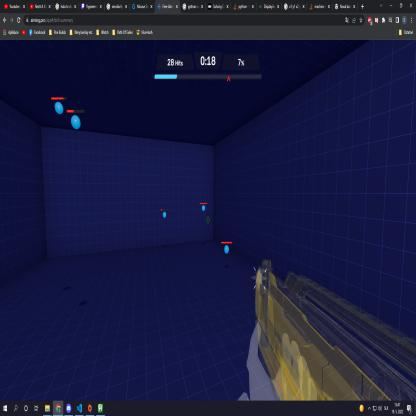sphere: (70, 114, 82, 131), (54, 101, 64, 116), (223, 245, 230, 254), (162, 211, 166, 219), (202, 205, 205, 212)
